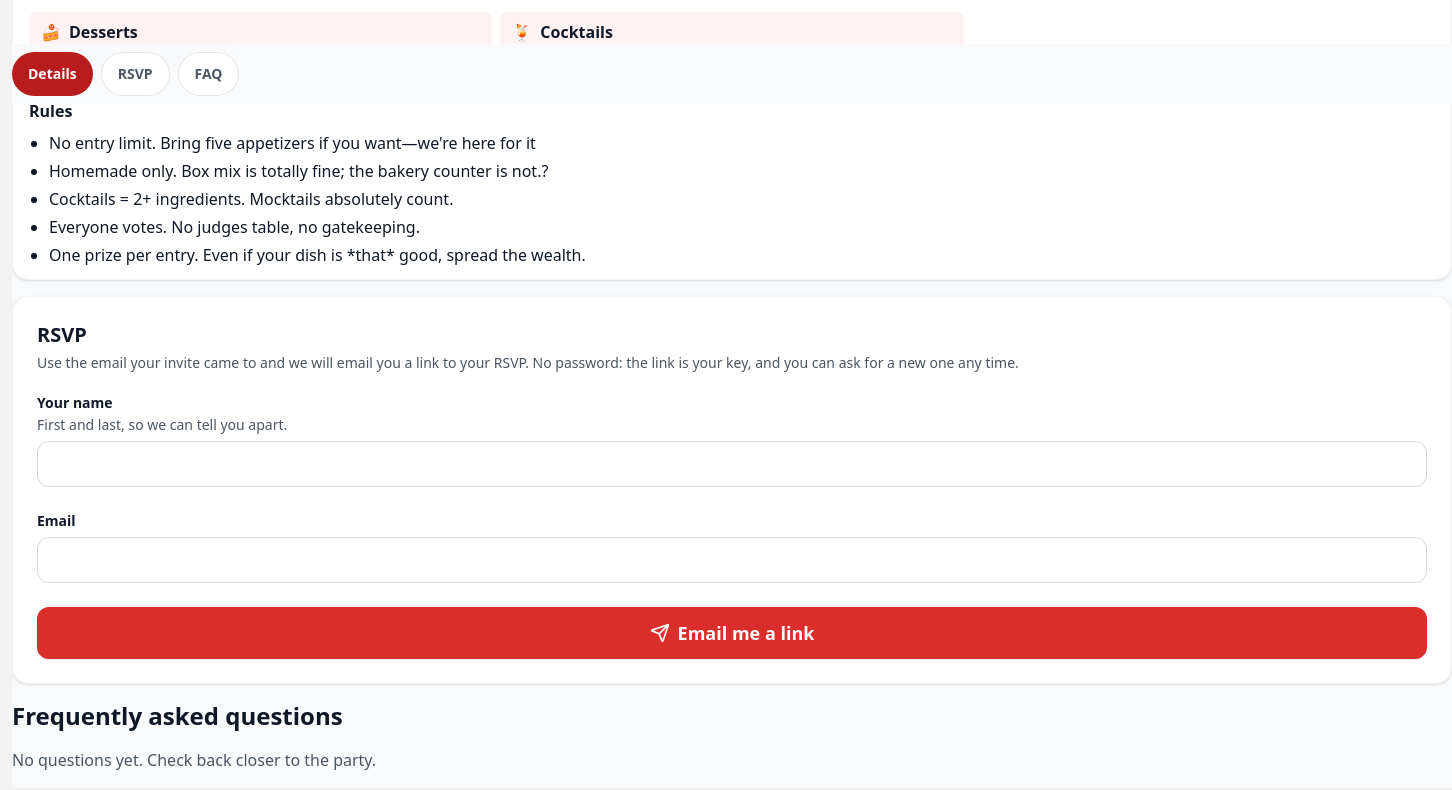
Event page RSVP › emails a sign-in link when signed out
(page scrolled)
Type "Nora Park" into the field labelled "Your name" at [732, 464], box [37, 441, 1427, 487]
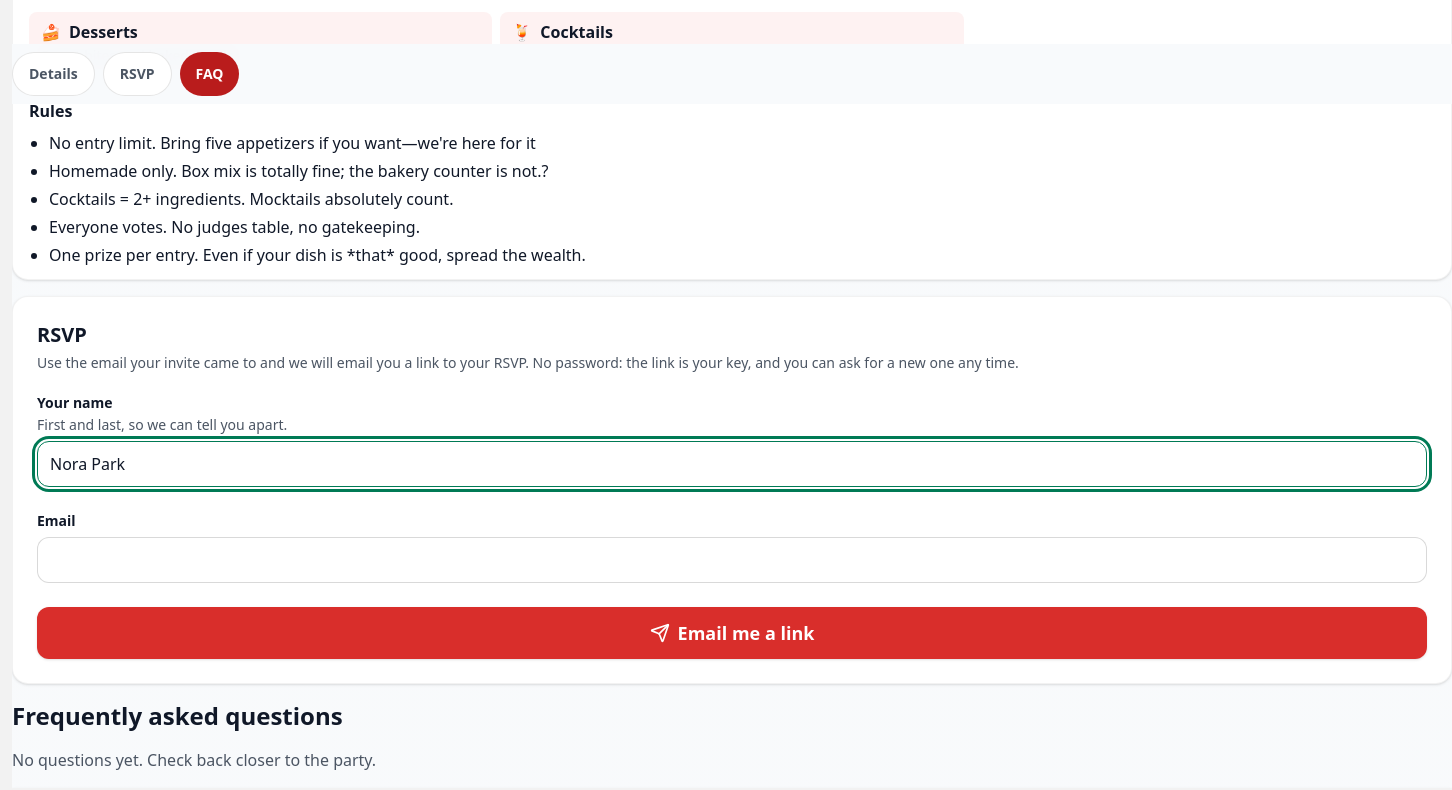
Type "nora@example.com" into the field labelled "Email" at [732, 560], box [37, 537, 1427, 583]
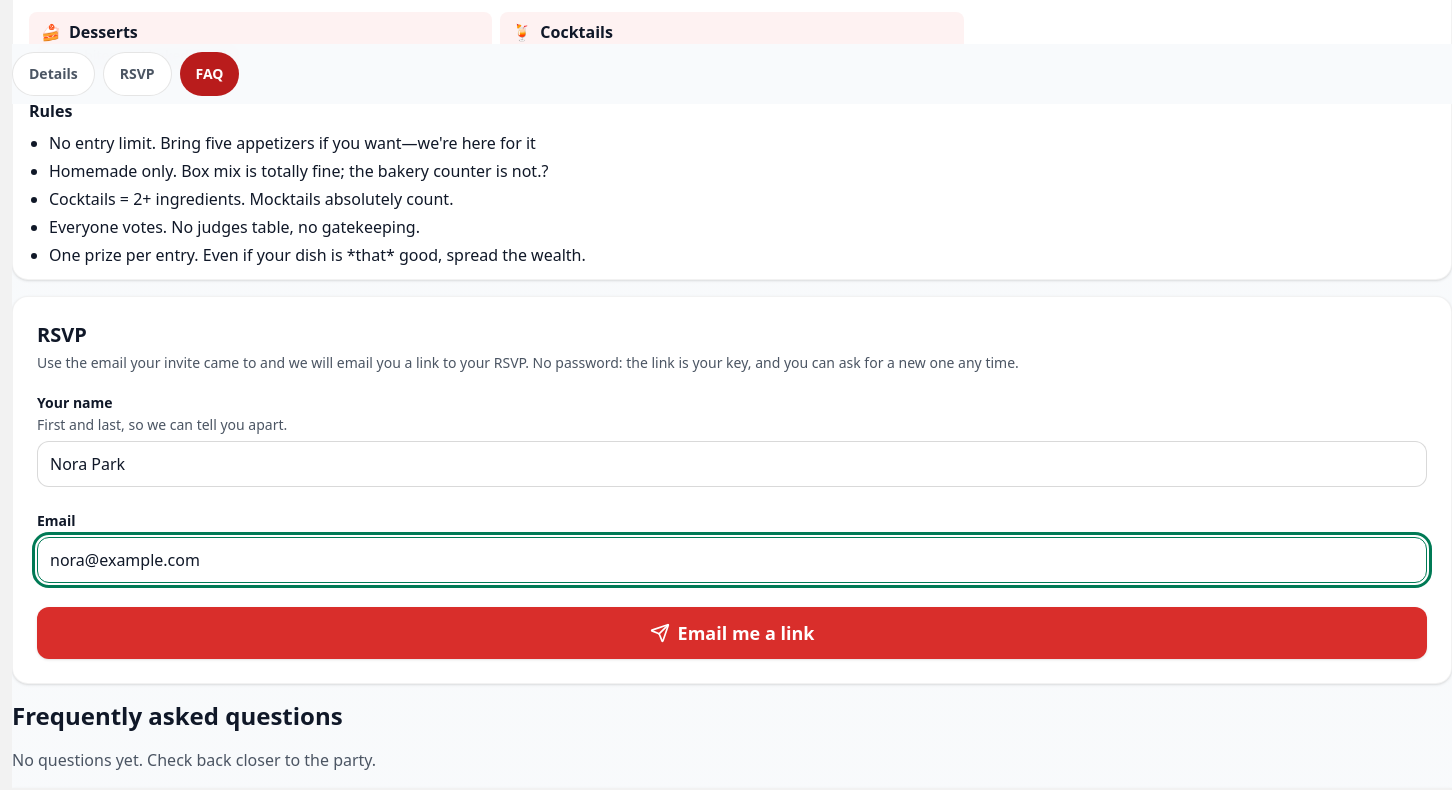
Click the button "Email me a link" at [732, 633], box [37, 607, 1427, 659]
(page scrolled)
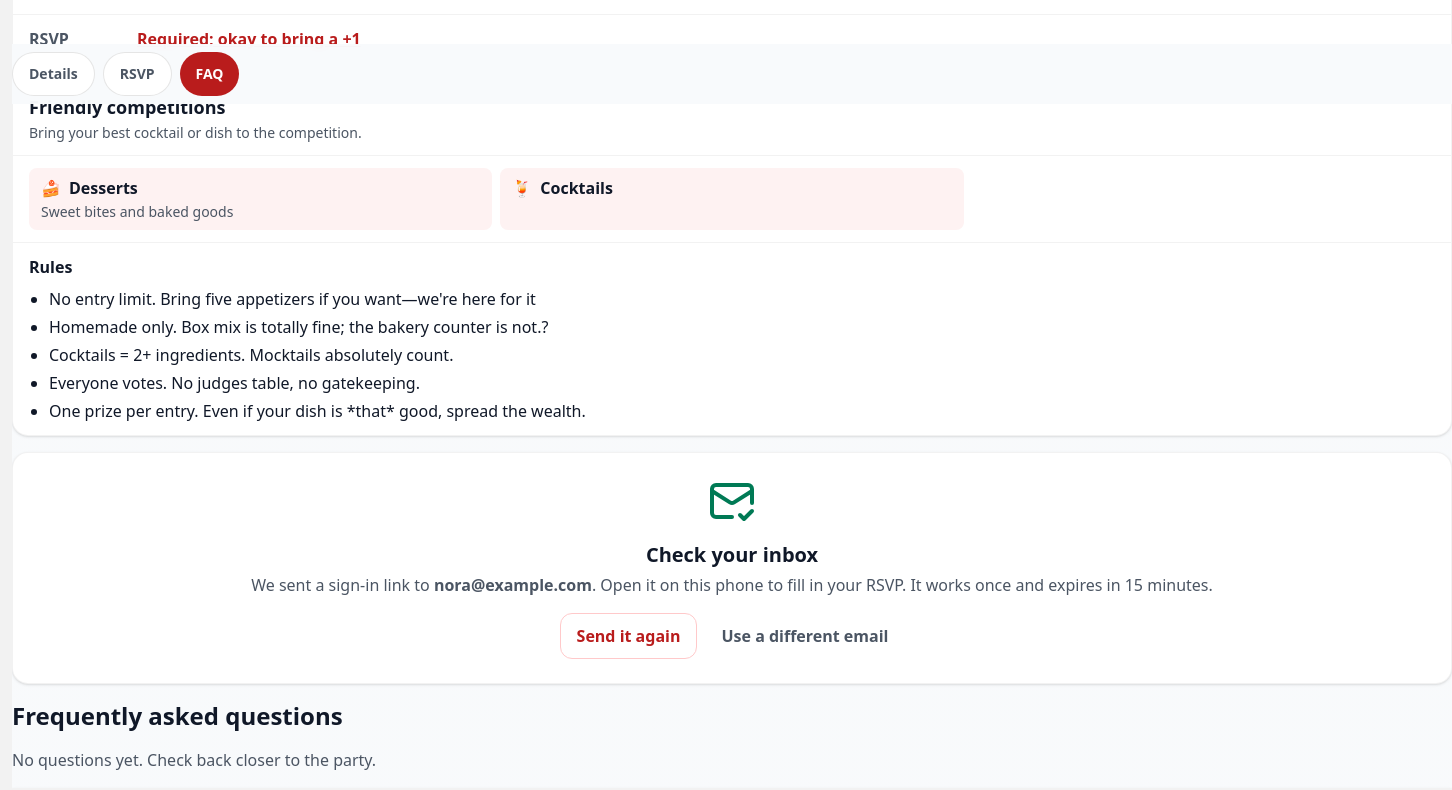
Expected: the heading "Check your inbox" is shown, [646, 541, 818, 568]
